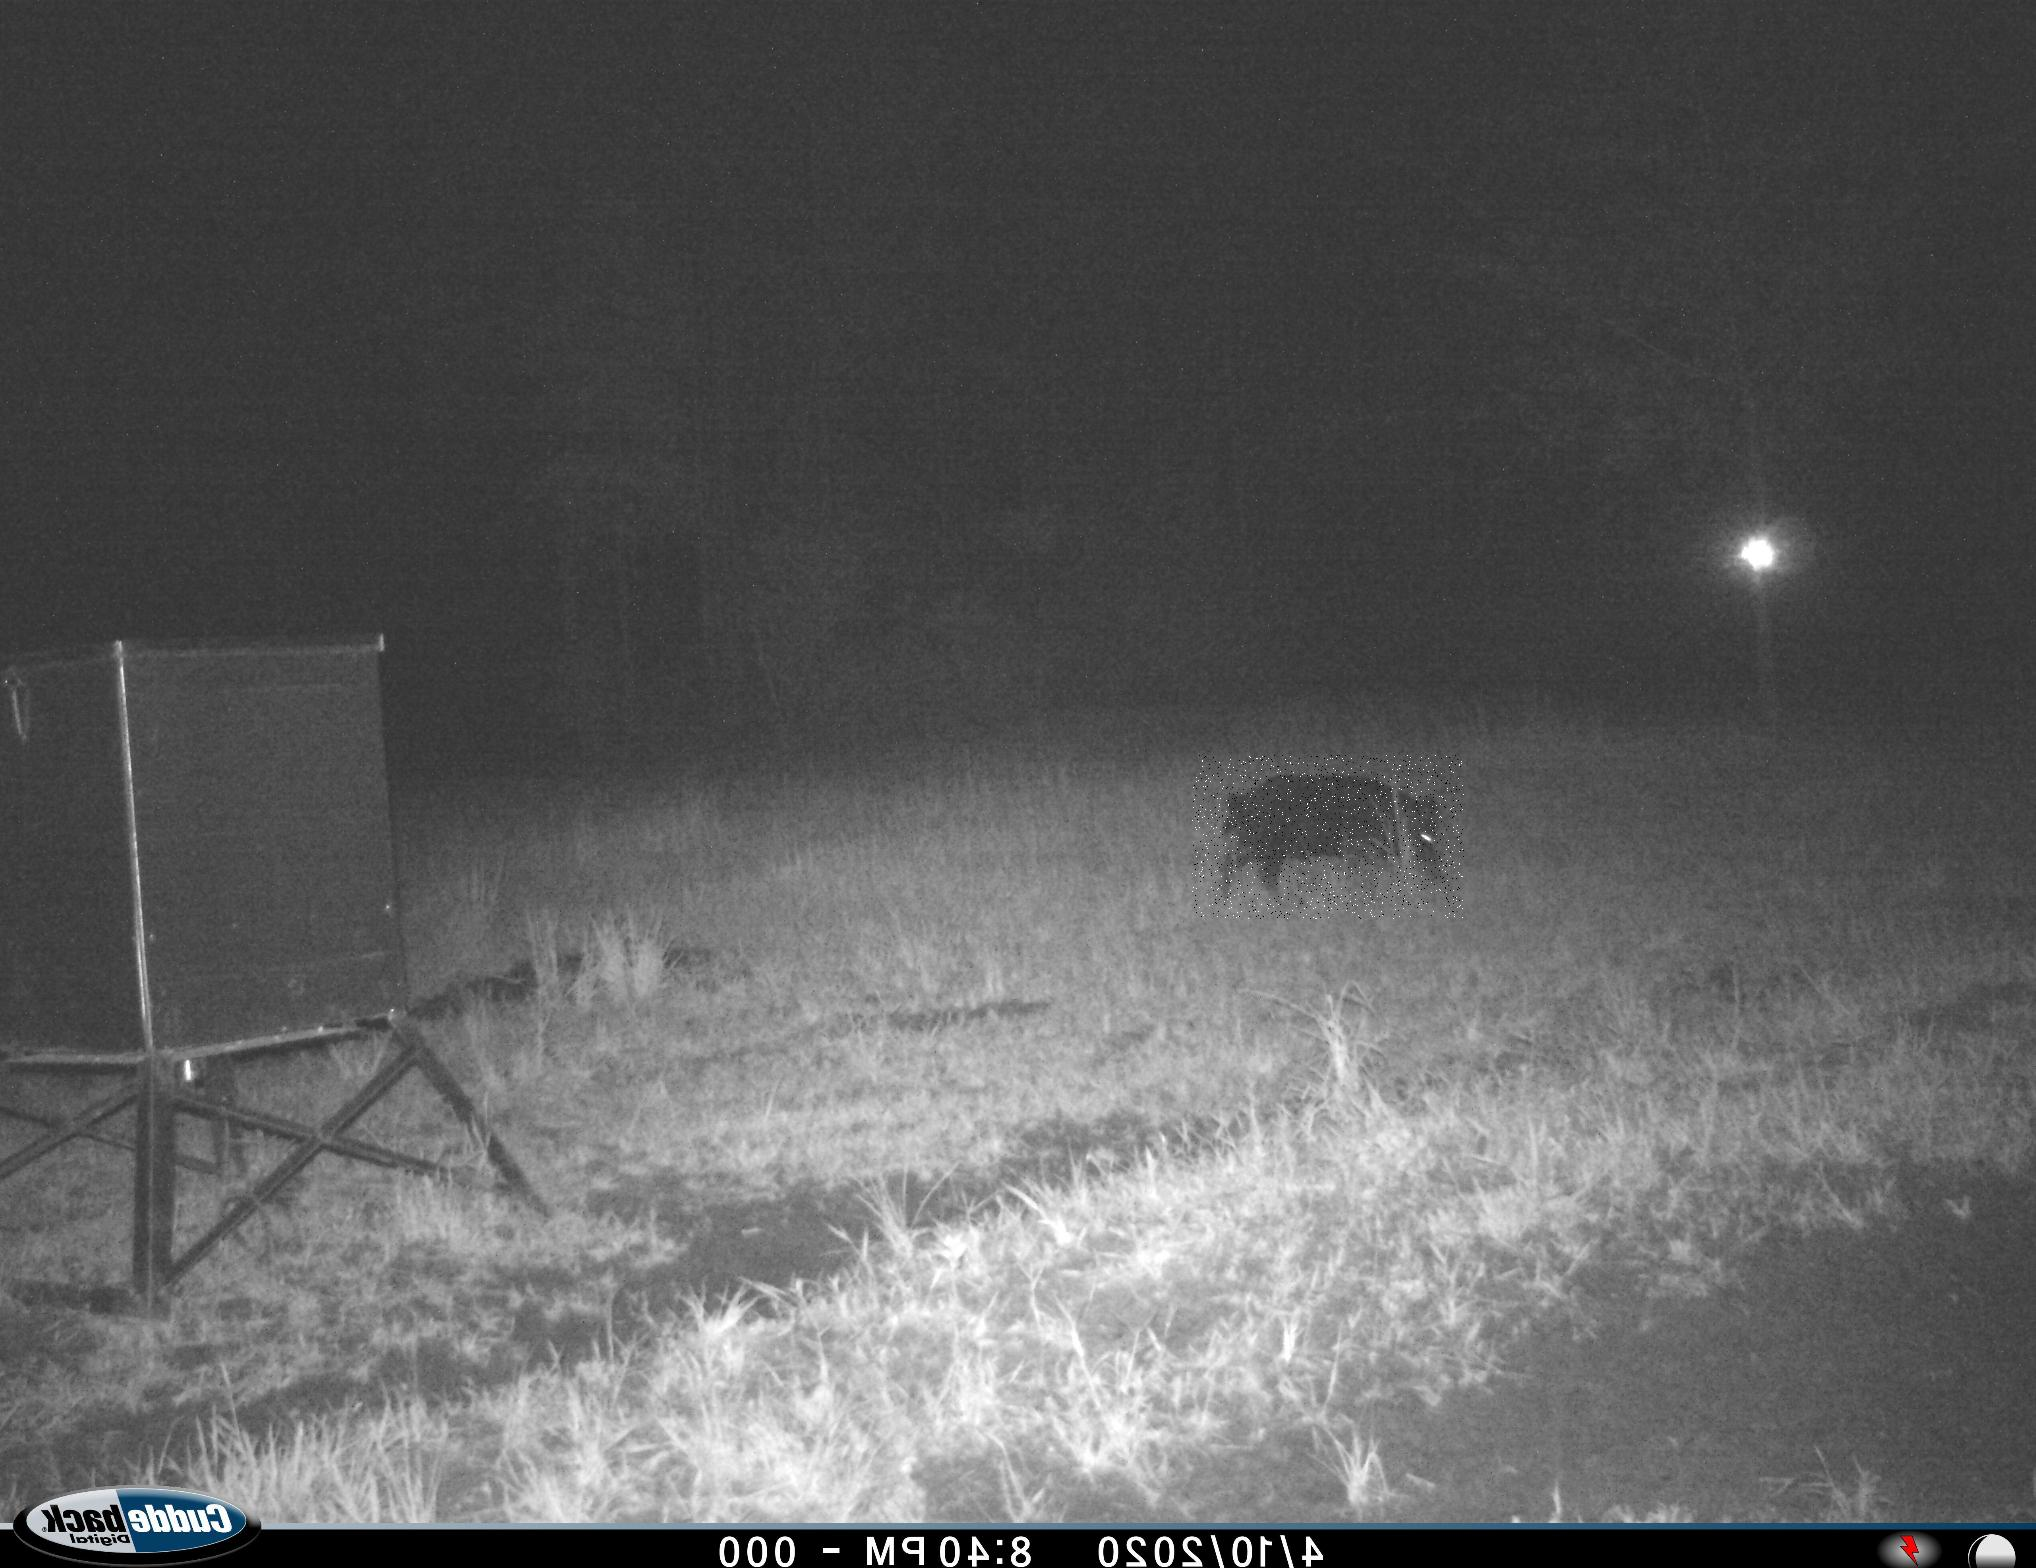Hog: (1191, 754, 1464, 919)
